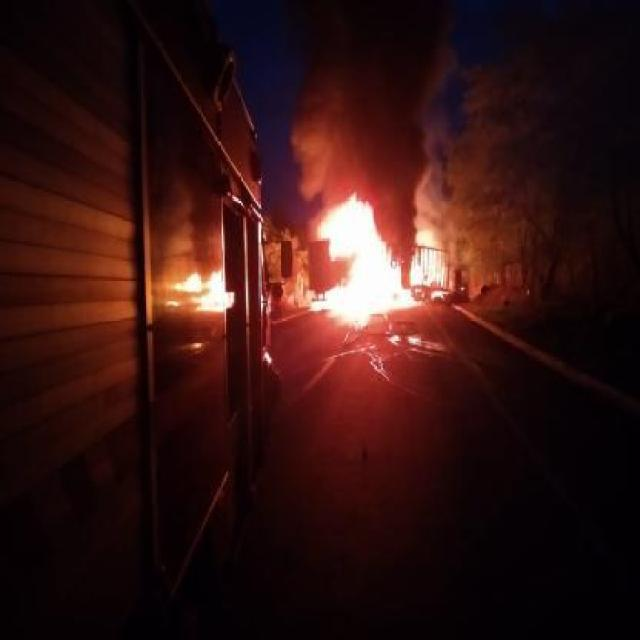Fire: (306, 197, 422, 333), (412, 228, 454, 296)
Smoke: (300, 3, 426, 205), (380, 206, 414, 259)
